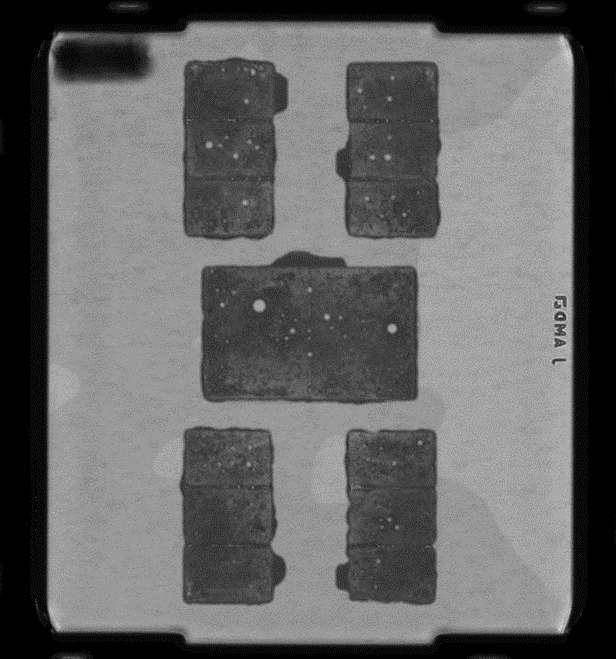CCD: (163, 44, 265, 104), (351, 44, 453, 104), (163, 105, 265, 165), (351, 105, 453, 165), (163, 167, 265, 227), (351, 167, 453, 227), (163, 432, 265, 492), (351, 432, 453, 492), (163, 493, 265, 553), (351, 493, 453, 553), (163, 555, 265, 615), (351, 555, 453, 615)
IOD: (186, 259, 430, 400)
